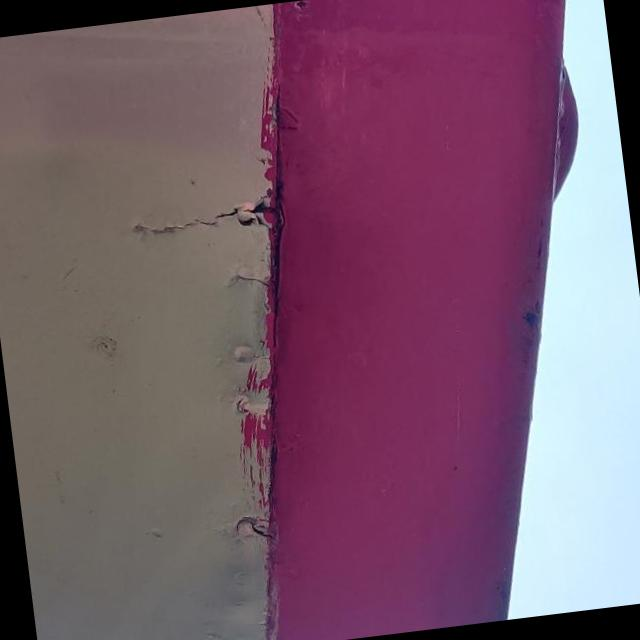Crack: (131, 194, 277, 234), (227, 264, 270, 291), (234, 517, 273, 541)
